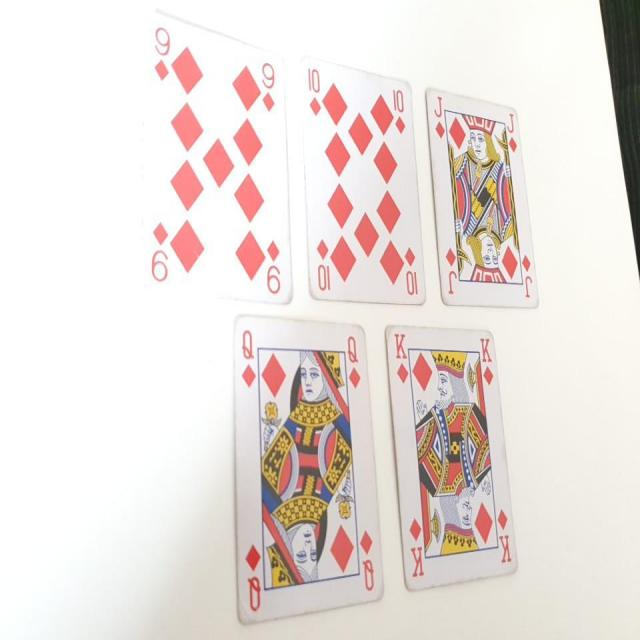10 Diamonds: (298, 56, 428, 309)
9 Diamonds: (146, 10, 295, 306)
J Diamonds: (422, 87, 539, 309)
K Diamonds: (383, 322, 519, 594)
Q Diamonds: (231, 310, 388, 627)
